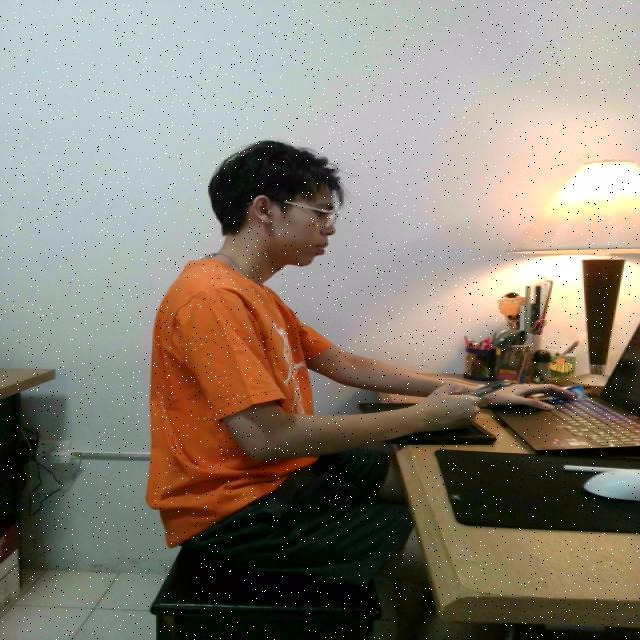Good: (134, 136, 428, 608)
